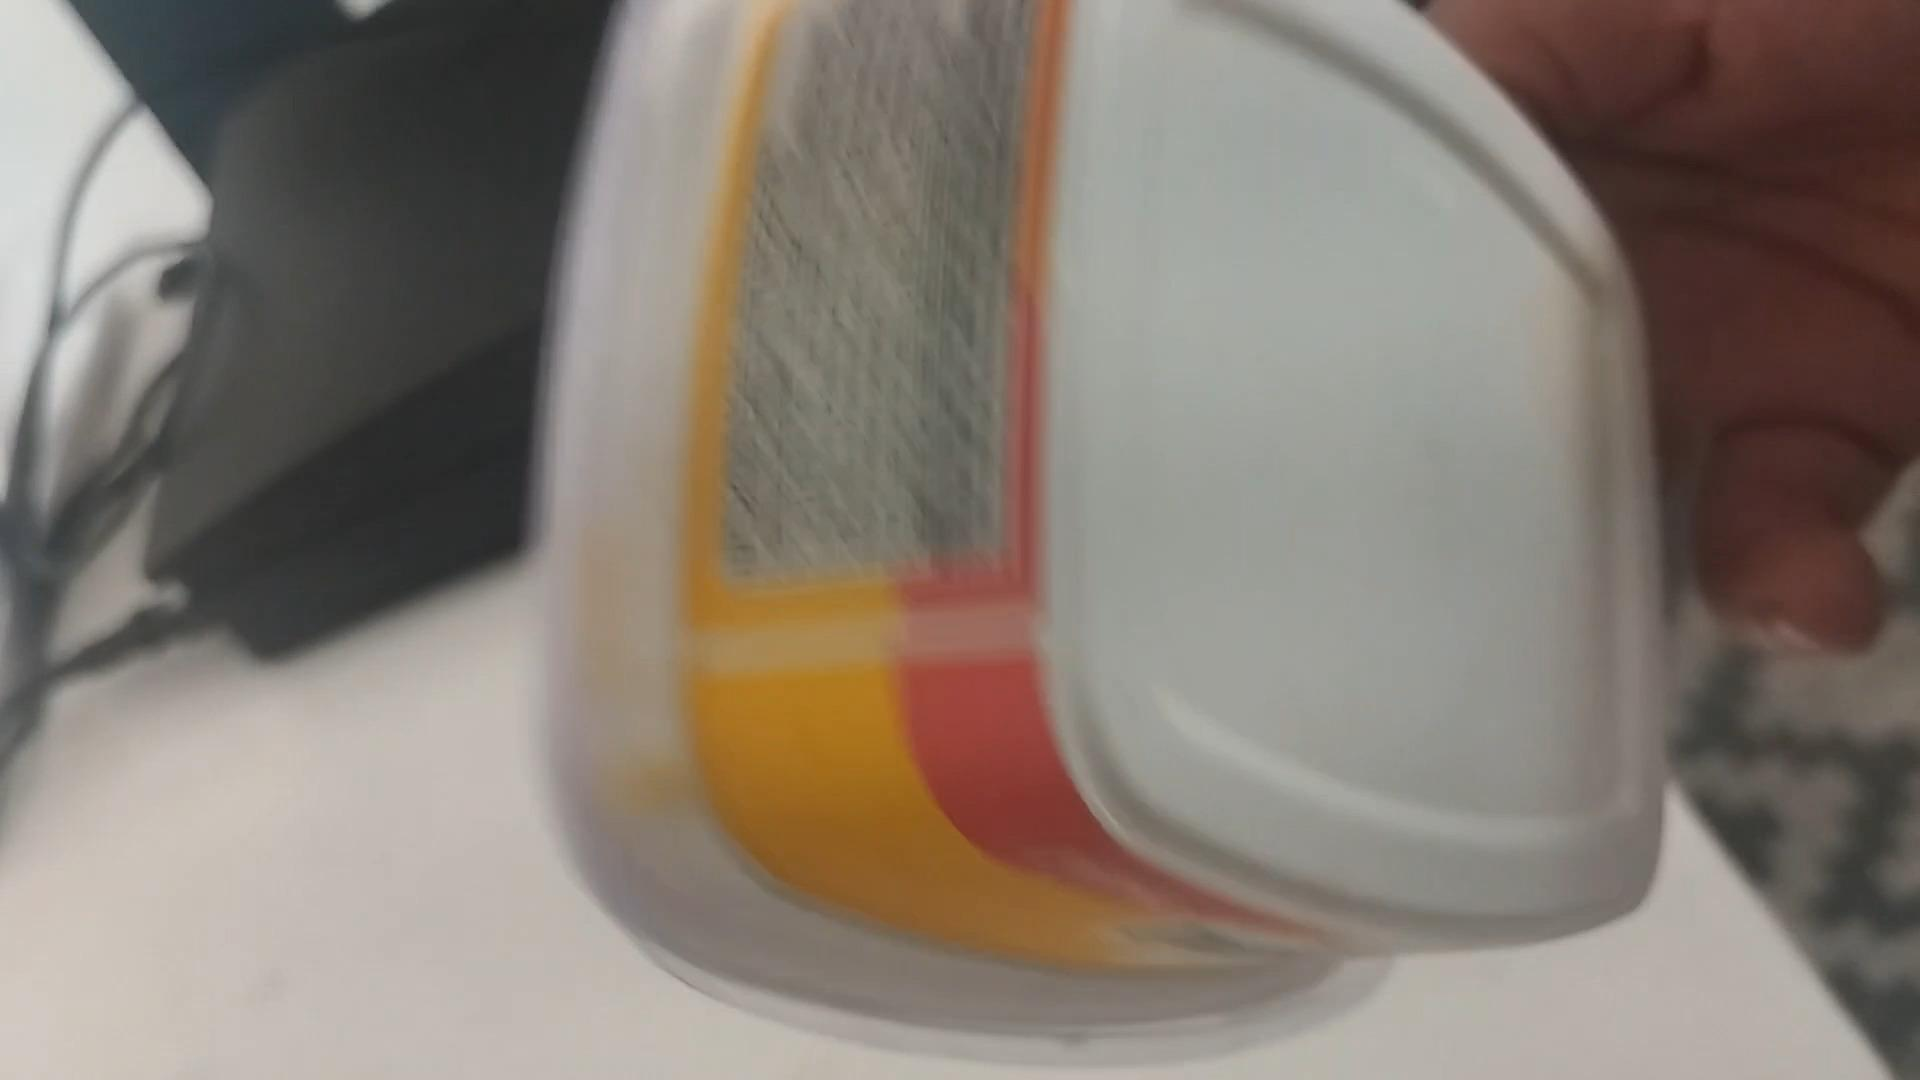butter: (533, 1, 1655, 1056)
